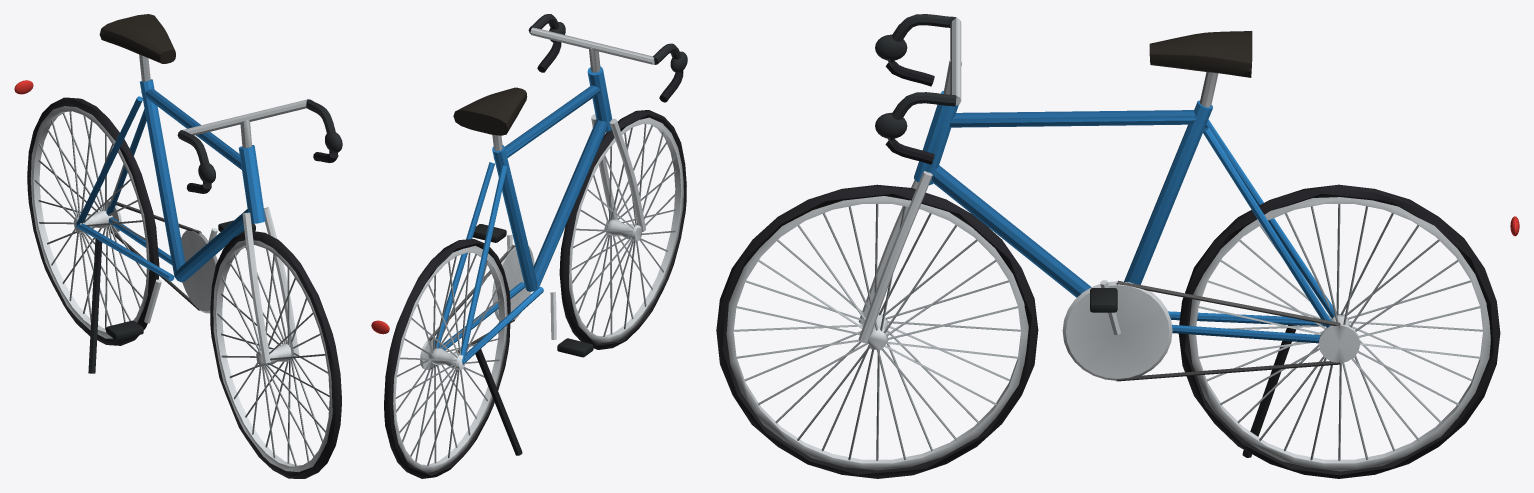
Rendered from veh-roadBike.glb.
3 renders of one model, left to right at view 1: azimuth 30°, elevation 25°; view 2: azimuth 150°, elevation 25°; view 3: azimuth 270°, elevation 25°, orthographic. The views are drawn at different scales.
Parts seen in each view (by area): view 1: body, wheel0, wheel1; view 2: body, wheel1, wheel0; view 3: body, wheel0, wheel1.
Boxes of the visible parts, box(x1,y1,x2,y2) form: body: box(14, 14, 342, 373); wheel0: box(210, 231, 341, 478); wheel1: box(27, 97, 159, 345); body: box(371, 14, 687, 455); wheel1: box(384, 239, 510, 478); wheel0: box(559, 110, 686, 349); body: box(858, 14, 1519, 457); wheel0: box(716, 184, 1038, 478); wheel1: box(1178, 184, 1500, 478).
Size of the model in its own units: 0.44 by 1.05 by 1.74.
